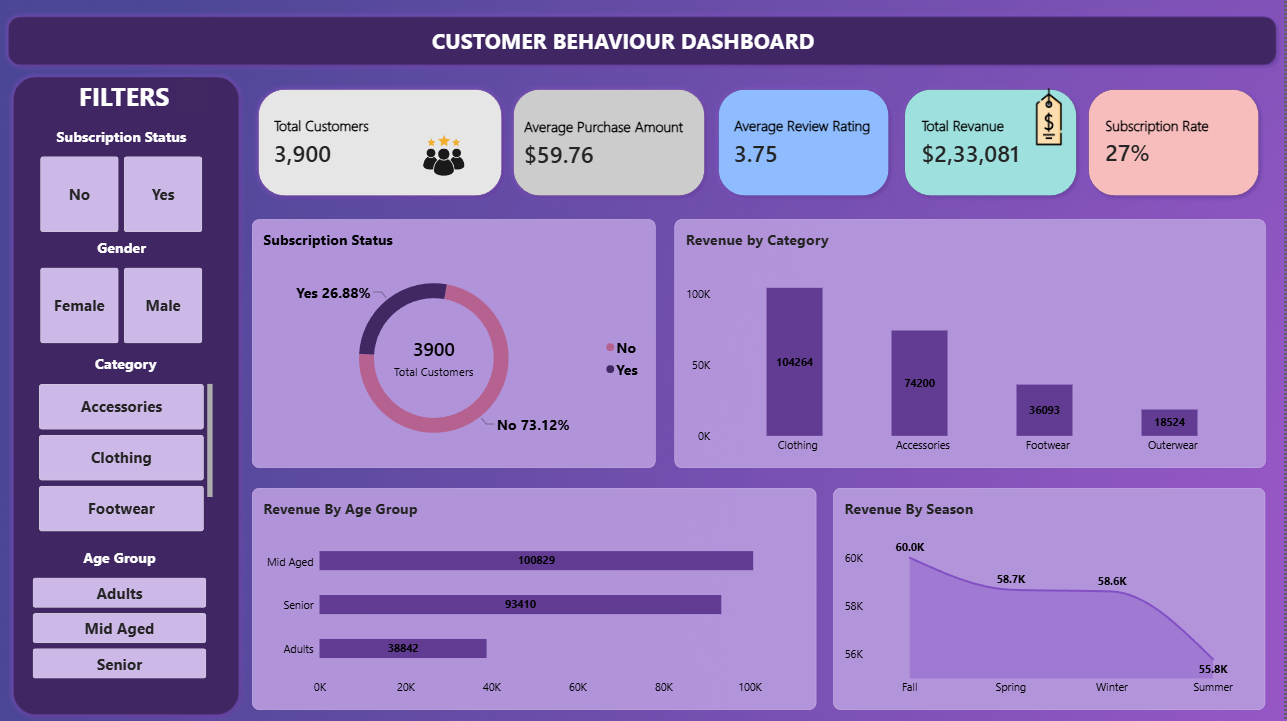

This screenshot's page, from the dashboard's own definition file:
{"tool":"powerbi","page":{"name":"Page 1","canvas":[1920,1080],"ordinal":0},"visuals":[{"type":"shape","box":[7.5,18.9,1911.3,90.6],"z":0},{"type":"textbox","box":[7.5,41.5,1854.7,67.9],"z":1000},{"type":"shape","box":[15.1,108.2,355.6,971.1],"z":2000},{"type":"shape","box":[762.2,126.7,304.4,177.8],"z":3000},{"type":"shape","box":[380,126.7,382.2,177.8],"z":4000},{"type":"shape","box":[1344.4,126.7,275.6,177.8],"z":5000},{"type":"shape","box":[1620,126.7,273.3,177.8],"z":6000},{"type":"shape","box":[1066.7,126.7,273.3,177.8],"z":7000},{"type":"cardVisual","title":"Number of customers","fields":{"Data":["customer_shopping_behavior.Total Customers"]},"box":[397.8,142.2,328.3,147.2],"z":8000},{"type":"cardVisual","title":"Number of customers","fields":{"Data":["customer_shopping_behavior.Average Purchase Amount"]},"box":[770.4,142.8,328.3,147.2],"z":9000},{"type":"cardVisual","title":"Number of customers","fields":{"Data":["customer_shopping_behavior.Average Review Rating"]},"box":[1084.4,142.2,328.3,147.2],"z":10000},{"type":"cardVisual","title":"Number of customers","fields":{"Data":["customer_shopping_behavior.Total Revanue"]},"box":[1364.4,142.2,328.3,147.2],"z":11000},{"type":"cardVisual","title":"Number of customers","fields":{"Data":["customer_shopping_behavior.Subscription Rate"]},"box":[1637.8,142.2,204.4,146.7],"z":12000},{"type":"donutChart","title":" Subscription Status","fields":{"Category":["customer_shopping_behavior.subscription_status"],"Y":["Sum(customer_shopping_behavior.purchase_amount_usd)"]},"box":[380,331.1,602.2,371.1],"z":13000},{"type":"clusteredColumnChart","title":"Revenue by Category","fields":{"Category":["customer_shopping_behavior.category"],"Y":["Sum(customer_shopping_behavior.purchase_amount_usd)"]},"box":[1011.1,331.1,882.2,371.1],"z":14000},{"type":"clusteredBarChart","title":"Revenue By Age Group","fields":{"Category":["customer_shopping_behavior.age_group"],"Y":["Sum(customer_shopping_behavior.purchase_amount_usd)"]},"box":[380,731.1,842.2,331.1],"z":15000},{"type":"areaChart","title":"Revenue By Season","fields":{"Category":["customer_shopping_behavior.season"],"Y":["customer_shopping_behavior.Total Revanue"]},"box":[1248.9,731.1,644.4,331.1],"z":16000},{"type":"advancedSlicerVisual","title":"Subscription Status","fields":{"Values":["customer_shopping_behavior.subscription_status"]},"box":[48.5,177.3,274.3,188.5],"z":17000},{"type":"advancedSlicerVisual","title":"Gender","fields":{"Values":["customer_shopping_behavior.gender"]},"box":[47.6,344.1,274.8,188.3],"z":18000},{"type":"advancedSlicerVisual","title":"Category","fields":{"Values":["customer_shopping_behavior.category"]},"box":[46.7,517.8,291.1,297.8],"z":19000},{"type":"advancedSlicerVisual","title":"Age Group","fields":{"Values":["customer_shopping_behavior.age_group"]},"box":[37.8,806.7,291.1,226.7],"z":20000},{"type":"textbox","box":[99.6,121.2,190.4,43.3],"z":21000},{"type":"shape","box":[268.4,121.2,43.3,54.1],"z":22000},{"type":"image","box":[582.2,186.6,169.8,97],"z":23000},{"type":"image","box":[1472.2,134.3,195.9,85.8],"z":26000}]}

Visuals, with their boxes in screenshot pixels (x1, y1, x2, y2), scaled from the page's 1920x1080 canvas onto the 1287x721 screenshot:
shape: pyautogui.locateOnScreen(5, 13, 1286, 73)
textbox: pyautogui.locateOnScreen(5, 28, 1248, 73)
shape: pyautogui.locateOnScreen(10, 72, 248, 720)
shape: pyautogui.locateOnScreen(511, 85, 715, 203)
shape: pyautogui.locateOnScreen(255, 85, 511, 203)
shape: pyautogui.locateOnScreen(901, 85, 1086, 203)
shape: pyautogui.locateOnScreen(1086, 85, 1269, 203)
shape: pyautogui.locateOnScreen(715, 85, 898, 203)
"Number of customers" cardVisual: pyautogui.locateOnScreen(267, 95, 487, 193)
"Number of customers" cardVisual: pyautogui.locateOnScreen(516, 95, 736, 194)
"Number of customers" cardVisual: pyautogui.locateOnScreen(727, 95, 947, 193)
"Number of customers" cardVisual: pyautogui.locateOnScreen(915, 95, 1135, 193)
"Number of customers" cardVisual: pyautogui.locateOnScreen(1098, 95, 1235, 193)
" Subscription Status" donutChart: pyautogui.locateOnScreen(255, 221, 658, 469)
"Revenue by Category" clusteredColumnChart: pyautogui.locateOnScreen(678, 221, 1269, 469)
"Revenue By Age Group" clusteredBarChart: pyautogui.locateOnScreen(255, 488, 819, 709)
"Revenue By Season" areaChart: pyautogui.locateOnScreen(837, 488, 1269, 709)
"Subscription Status" advancedSlicerVisual: pyautogui.locateOnScreen(33, 118, 216, 244)
"Gender" advancedSlicerVisual: pyautogui.locateOnScreen(32, 230, 216, 355)
"Category" advancedSlicerVisual: pyautogui.locateOnScreen(31, 346, 226, 544)
"Age Group" advancedSlicerVisual: pyautogui.locateOnScreen(25, 539, 220, 690)
textbox: pyautogui.locateOnScreen(67, 81, 194, 110)
shape: pyautogui.locateOnScreen(180, 81, 209, 117)
image: pyautogui.locateOnScreen(390, 125, 504, 189)
image: pyautogui.locateOnScreen(987, 90, 1118, 147)
